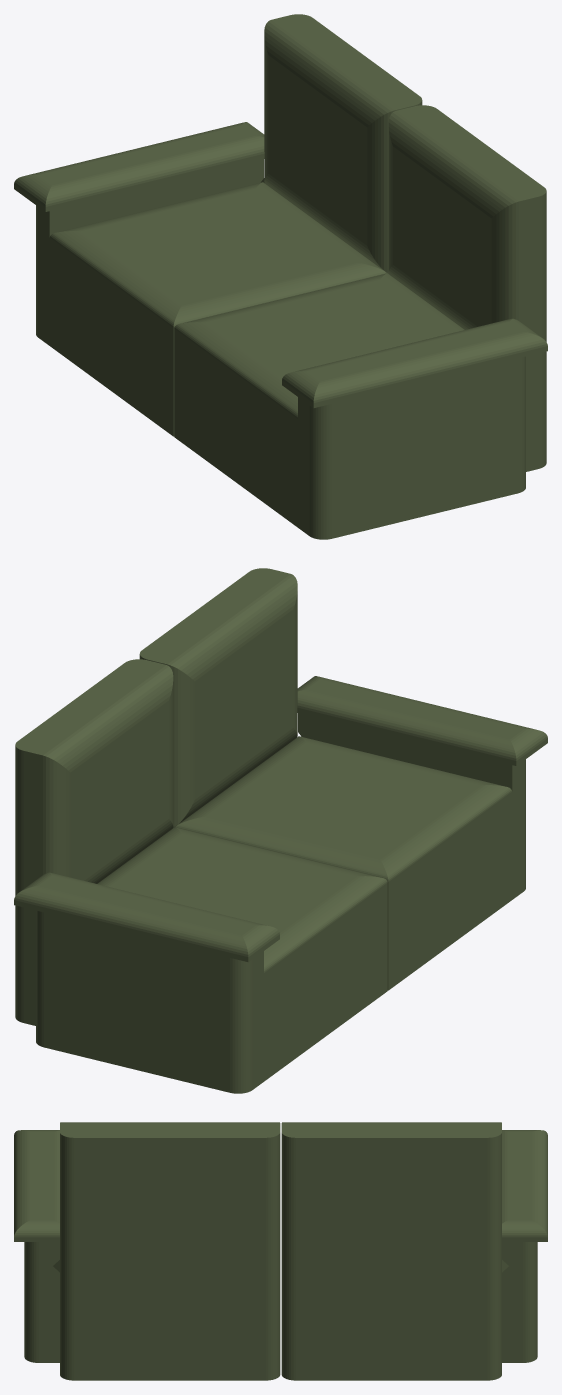
File: couch.fbx
The picture shows the model from 3 angles, top to bottom: view 1: azimuth 30°, elevation 25°; view 2: azimuth 150°, elevation 25°; view 3: azimuth 270°, elevation 25°; orthographic projection. The views are drawn at different scales.
Parts seen in each view (by area): view 1: Cube; view 2: Cube; view 3: Cube.
Boxes of the visible parts, x1,y1,x2,y2 form: Cube: (14, 14, 547, 539); Cube: (14, 568, 547, 1093); Cube: (14, 1122, 547, 1380).
Bounding box in the file's own units: 247 × 243 × 484.
